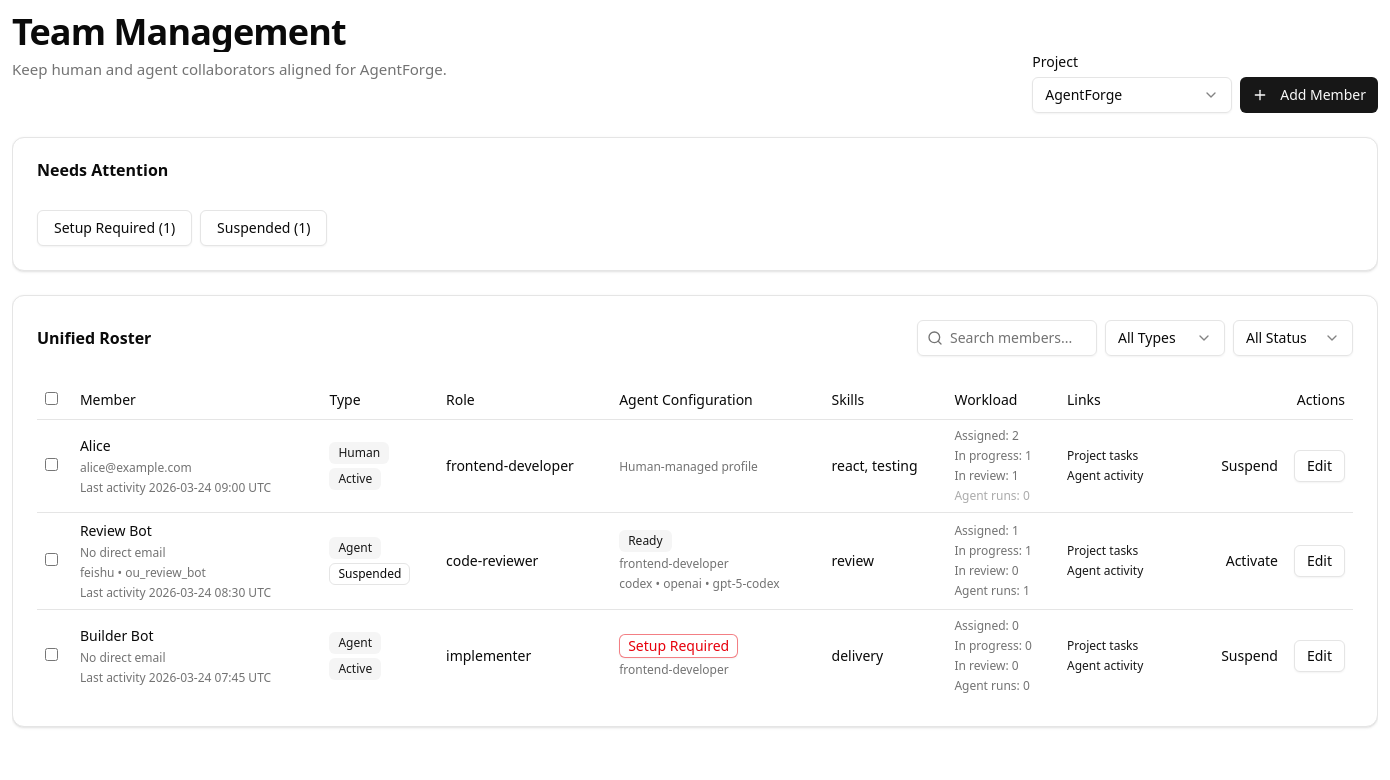
Test: TeamManagement › disables quick lifecycle actions while a member update is in flight
The image size is (1390, 780).
Click the button with aria-label "Activate Review Bot" at x=1252, y=562, box [1214, 546, 1290, 578]
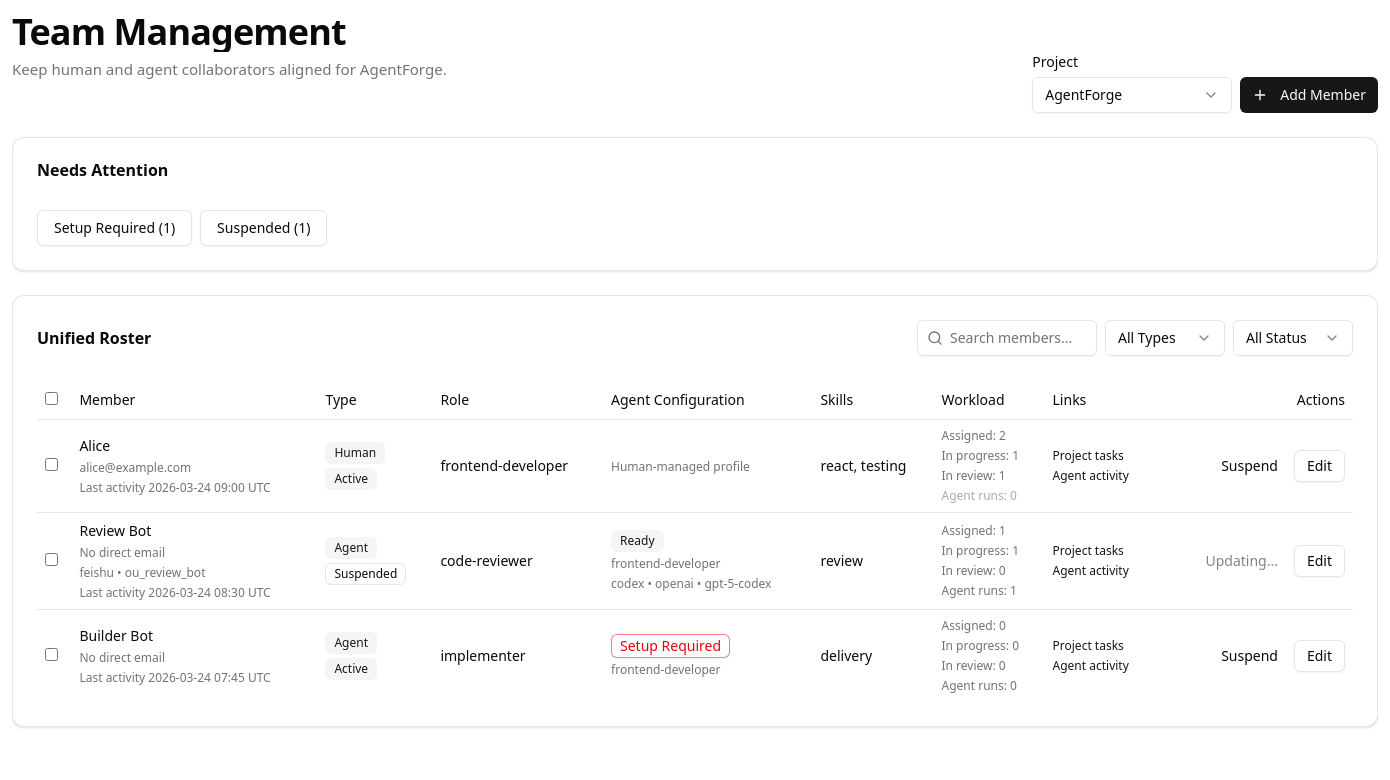
Expected: the button with aria-label "Updating Review Bot" is disabled
Click the button with aria-label "Updating Review Bot" at x=1242, y=562, box [1193, 546, 1290, 578]
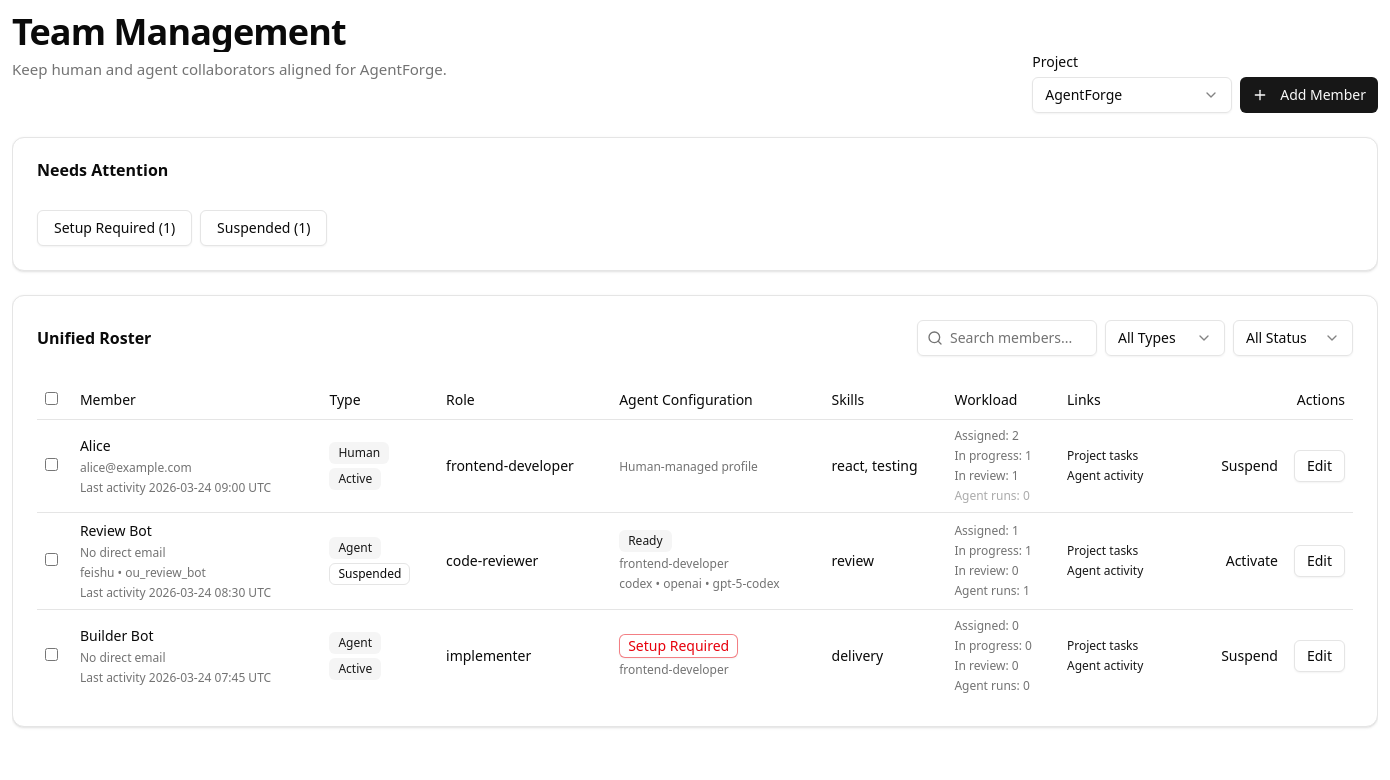
Expected: the button with aria-label "Activate Review Bot" is enabled, [1214, 546, 1290, 578]
